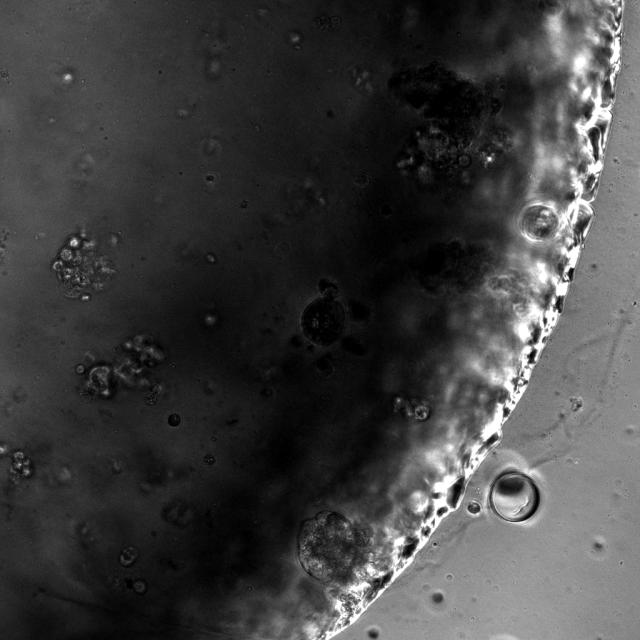organoid: (386, 61, 510, 186), (74, 334, 164, 404), (298, 510, 371, 585), (300, 278, 371, 346), (51, 231, 117, 299), (393, 396, 430, 420), (351, 67, 382, 95), (11, 449, 33, 481), (119, 545, 138, 567), (168, 413, 182, 427)
